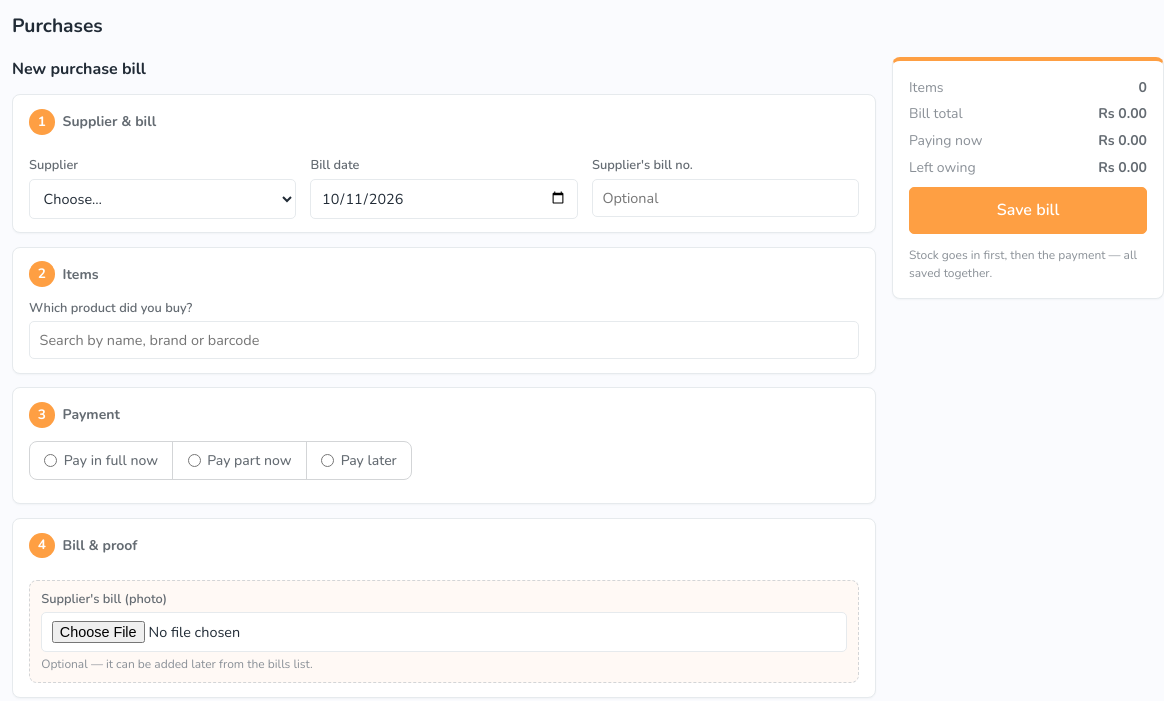
Test: buying a product that does not exist yet › offers to create one when the search finds nothing
Type "Wireless Charger" into the field labelled "Which product did you buy?".
click(444, 340); type("Wireless Charger")  # box [29,321,859,359]
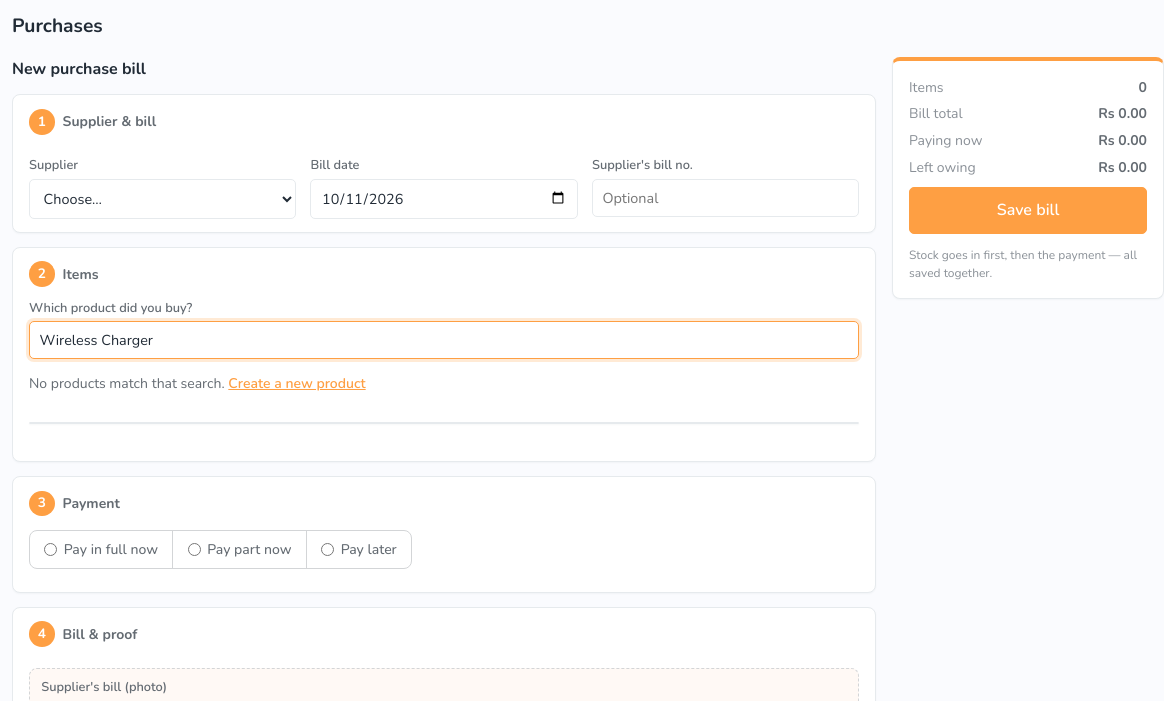
Now the text "No products match that search. Create a new product" is shown, box [29,373,366,394]
Now the button "Create a new product" is shown, box [228,373,366,394]
